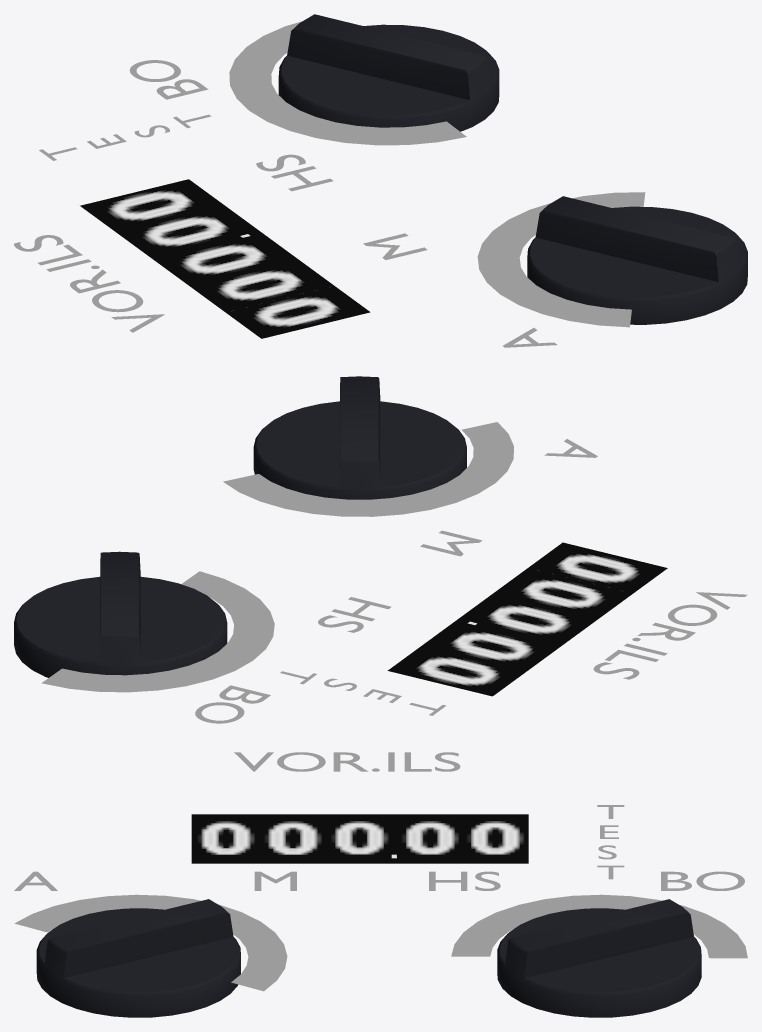
The model's file is vor-ils.fbx.
3 views of the same model, one above another, from view 1: azimuth 30°, elevation 25°; view 2: azimuth 150°, elevation 25°; view 3: azimuth 270°, elevation 25° (orthographic). The views are drawn at different scales.
Parts seen in each view (by area): view 1: vor-ils.button1, vor-ils.button2, vor-ils.texte, vor-ils.num-2, vor-ils.num-0, vor-ils.num-1, vor-ils.num-3, vor-ils.num-4; view 2: vor-ils.texte, vor-ils.button2, vor-ils.button1, vor-ils.num-0, vor-ils.num-1, vor-ils.num-3, vor-ils.num-2, vor-ils.num-4; view 3: vor-ils.button2, vor-ils.button1, vor-ils.texte, vor-ils.num-0, vor-ils.num-1, vor-ils.num-3, vor-ils.num-2, vor-ils.num-4.
Boxes of the visible parts, x1,y1,x2,y2 form: vor-ils.button1: [527, 196, 747, 324]; vor-ils.button2: [278, 14, 499, 131]; vor-ils.texte: [14, 21, 645, 347]; vor-ils.num-2: [154, 233, 298, 285]; vor-ils.num-0: [226, 286, 370, 338]; vor-ils.num-1: [190, 259, 334, 312]; vor-ils.num-3: [115, 205, 259, 257]; vor-ils.num-4: [80, 179, 223, 231]; vor-ils.texte: [41, 422, 747, 723]; vor-ils.button2: [14, 551, 227, 677]; vor-ils.button1: [253, 376, 466, 499]; vor-ils.num-0: [528, 542, 667, 593]; vor-ils.num-1: [493, 568, 632, 618]; vor-ils.num-3: [422, 621, 560, 671]; vor-ils.num-2: [458, 593, 597, 644]; vor-ils.num-4: [387, 646, 525, 696]; vor-ils.button2: [497, 899, 701, 1017]; vor-ils.button1: [36, 899, 240, 1017]; vor-ils.texte: [14, 752, 747, 991]; vor-ils.num-0: [191, 814, 258, 863]; vor-ils.num-1: [258, 814, 325, 863]; vor-ils.num-3: [396, 814, 463, 863]; vor-ils.num-2: [325, 814, 391, 863]; vor-ils.num-4: [461, 814, 528, 863].
Size of the model in its own units: 3.24 by 4.05 by 0.3043.
